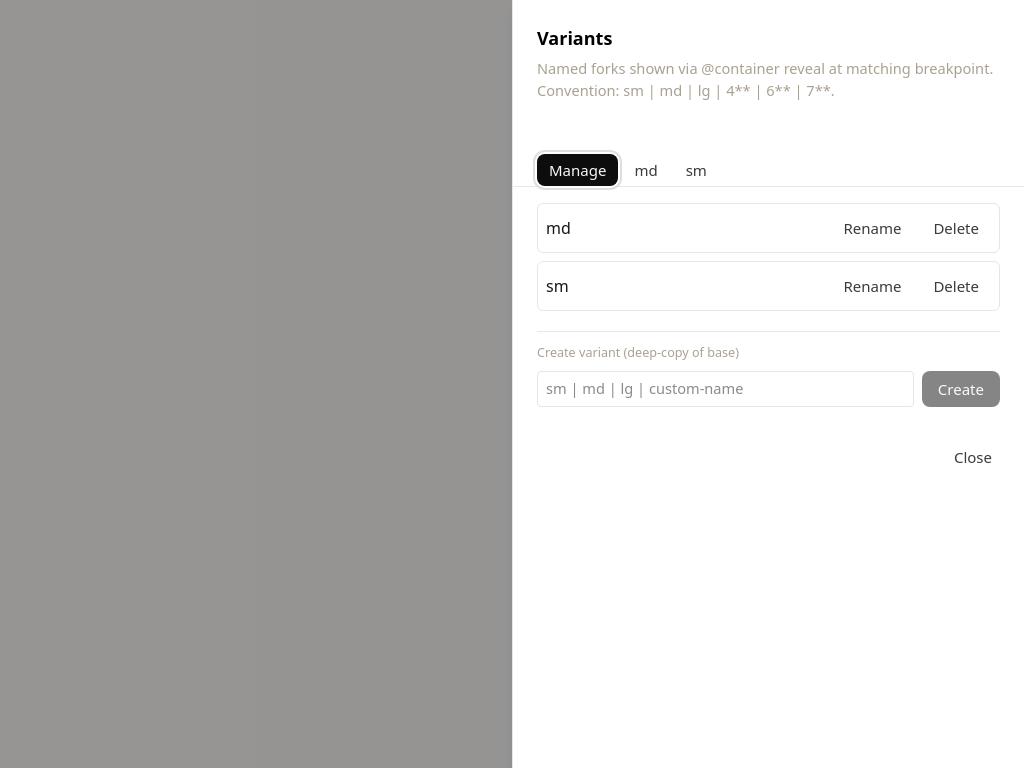
Test case: VariantsDrawer — rename › rename to existing name → Save disabled
The width and height of the screenshot is (1024, 768).
Click the button with test id "variants-drawer-rename-sm". click: coordinates (872, 286)
box: [831,270,913,302]
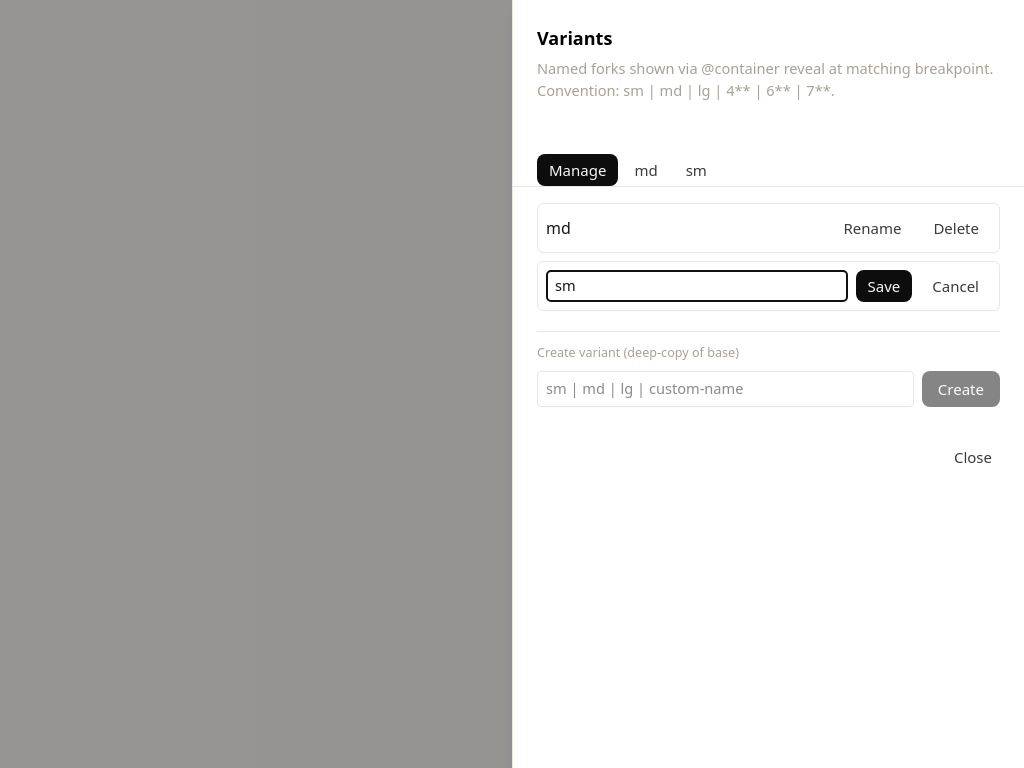
Replace the text in the field with test id "variants-drawer-rename-input-sm" with "md". click: coordinates (697, 286)
box: [546,270,848,302]
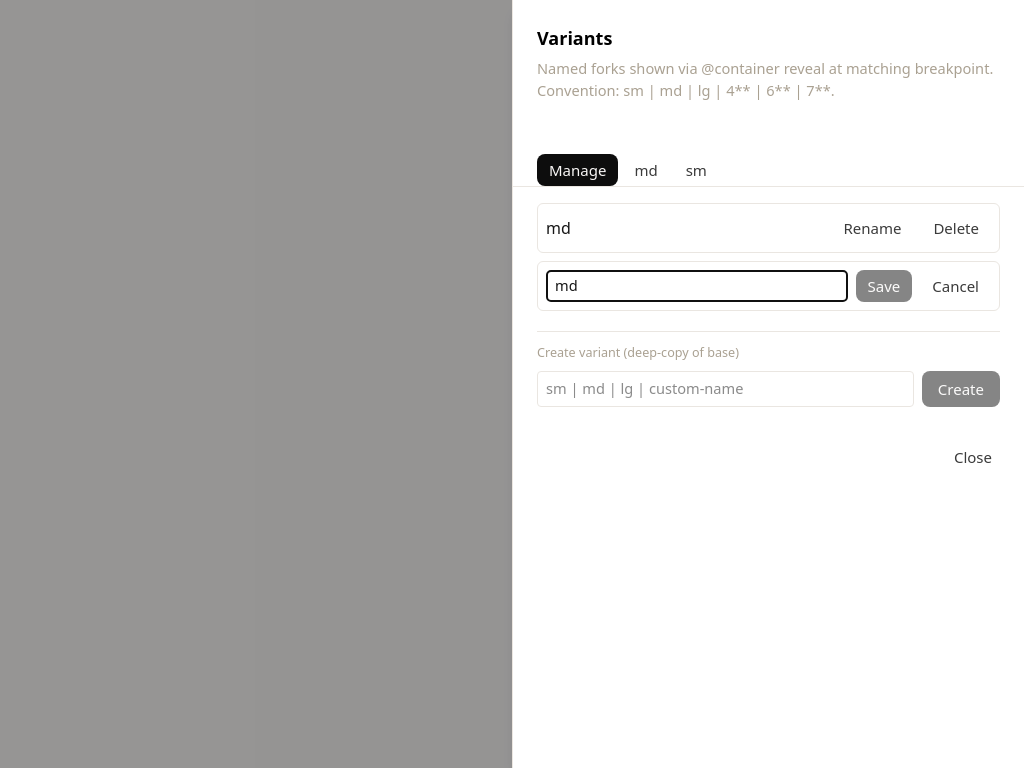
Check: the button with test id "variants-drawer-rename-confirm-sm" is disabled, box [856,270,912,302]
